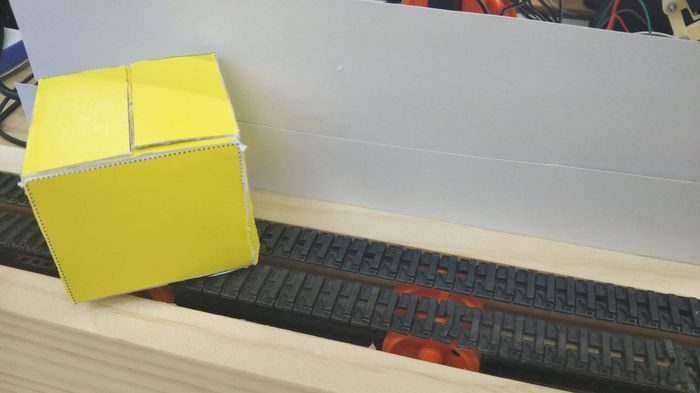box4: (16, 47, 262, 307)
